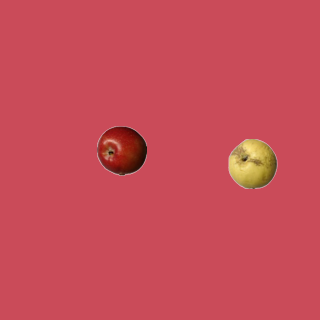Apple Braeburn: (96, 125, 146, 175)
Apple Golden 1: (227, 138, 277, 188)
